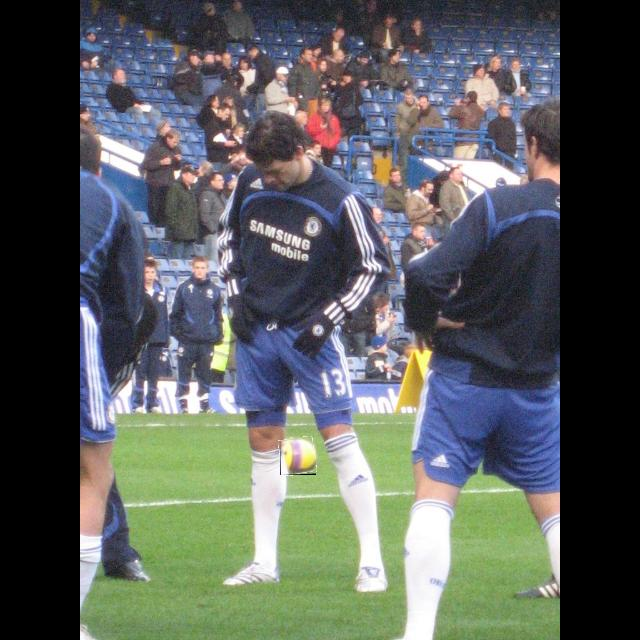Football: (280, 437, 316, 475)
